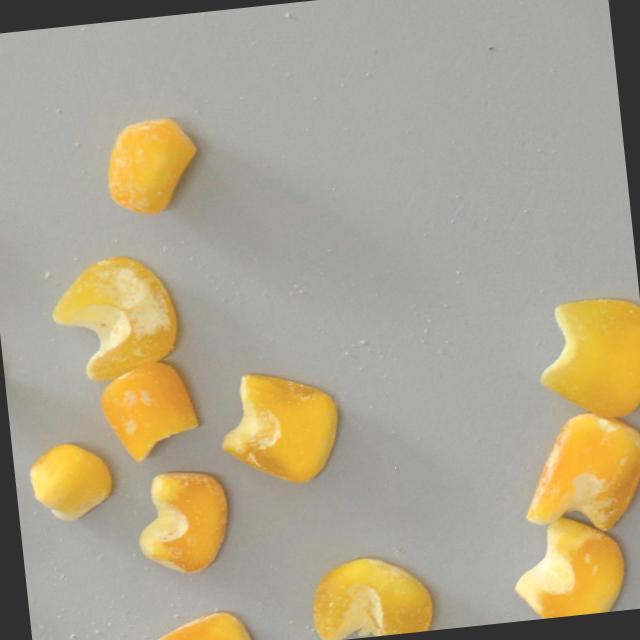dañado: (208, 361, 350, 494), (299, 541, 441, 640), (127, 462, 239, 581), (121, 603, 261, 640)
no_canjicado: (525, 288, 640, 429)
no_desgerminado: (24, 437, 119, 529)
pelicula: (505, 403, 640, 543), (499, 508, 632, 622), (94, 351, 204, 467), (96, 111, 207, 222)
punto_negro: (40, 246, 186, 388)
